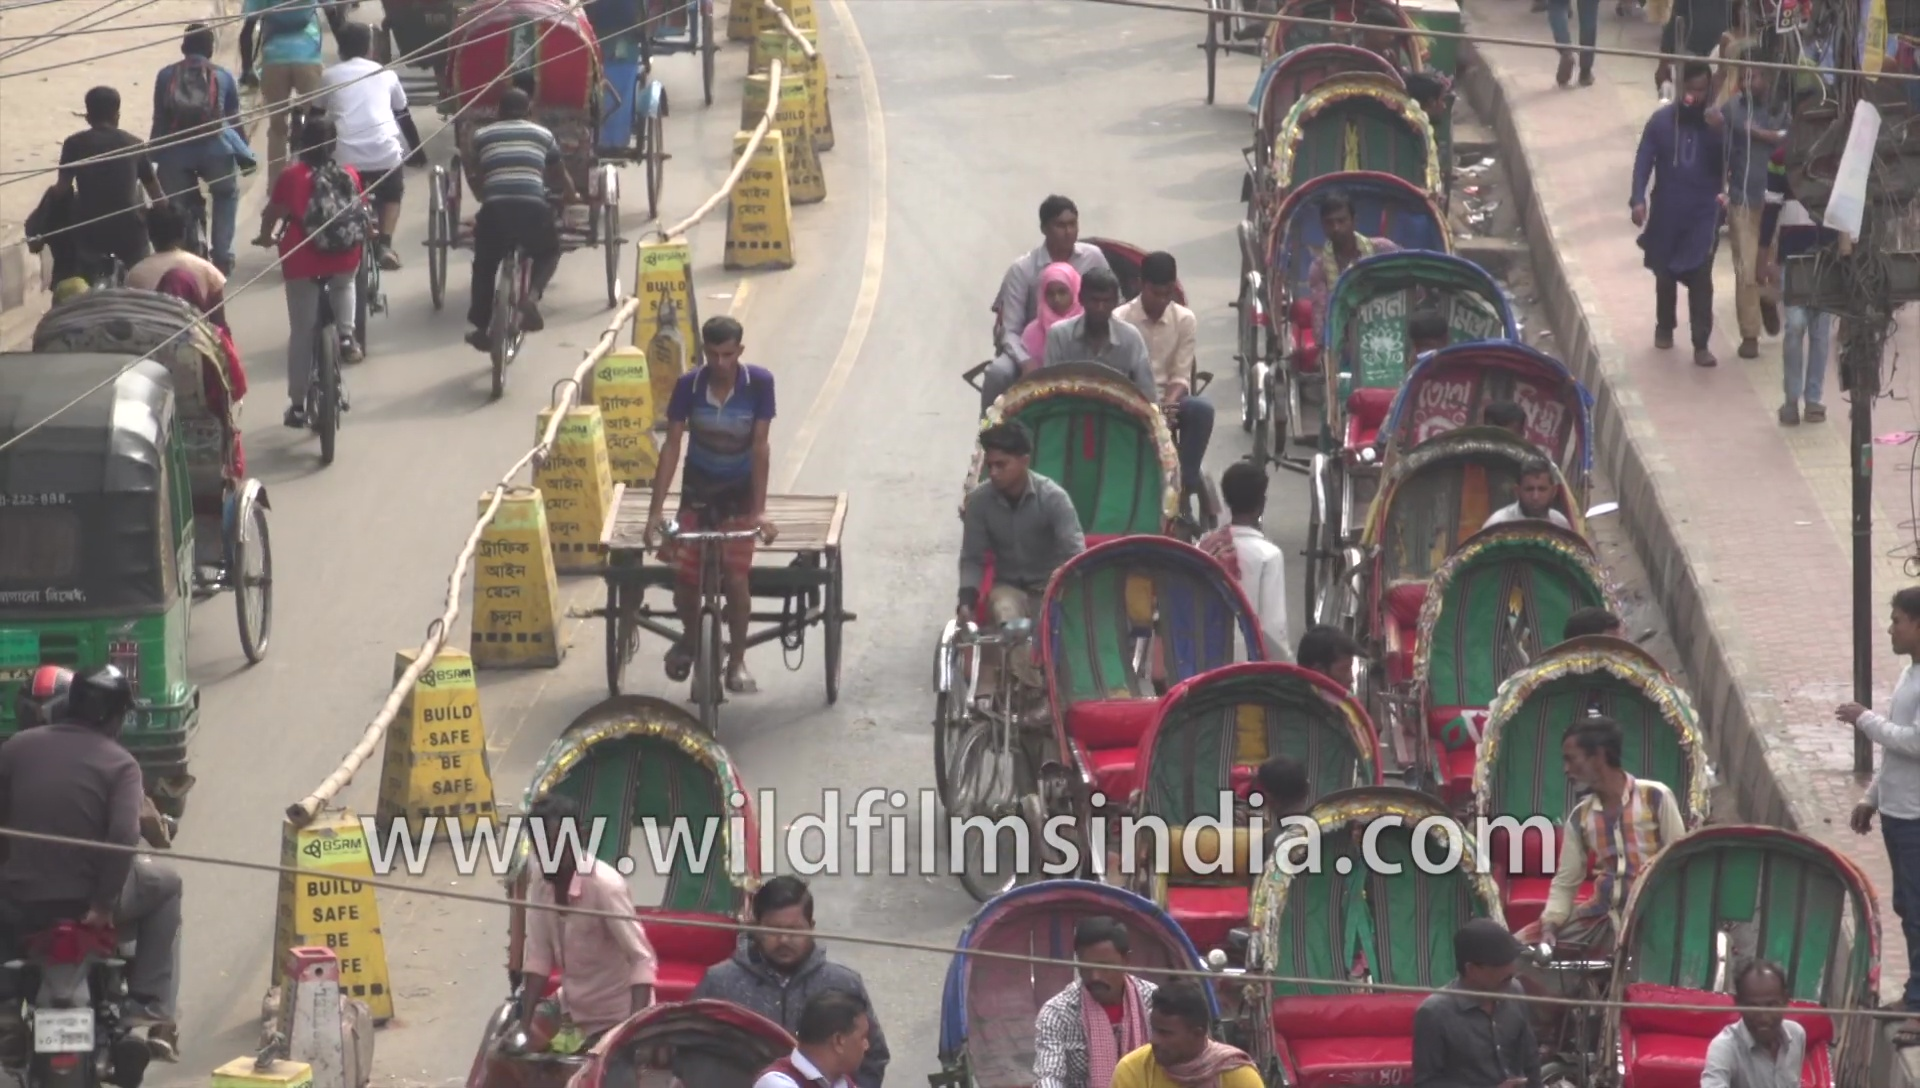5: (934, 372, 1182, 797), (495, 694, 754, 1085), (1607, 822, 1904, 1088), (1015, 545, 1298, 771), (585, 479, 864, 708), (280, 117, 367, 469), (480, 80, 535, 414)
bus: (1, 346, 218, 822)
